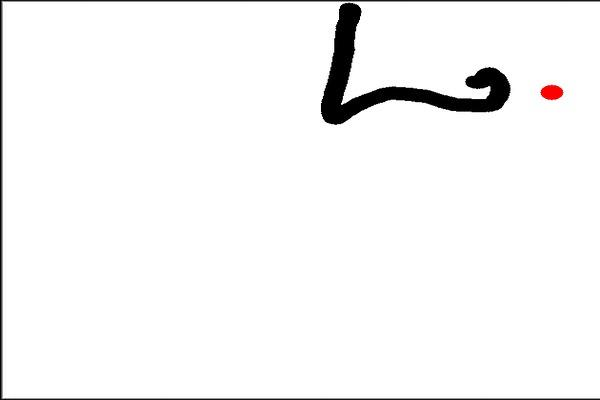L: (313, 0, 518, 129)
